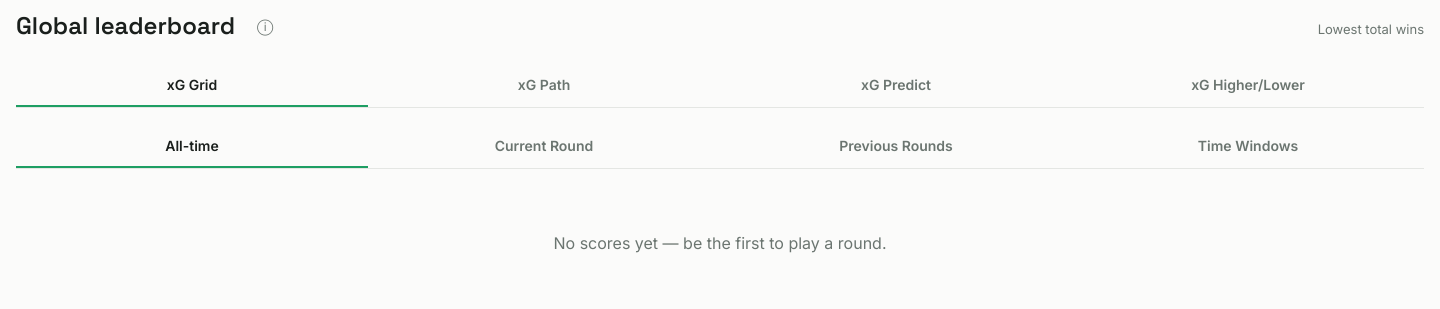
Scenario: WindowedLeaderboard › REQ405: selecting "Time Windows" fetches the window endpoint with the default (round) resolution
Expected: the text "No scores yet — be the first to play a round." is shown, top-left (554, 233), bottom-right (886, 253)
Click the tab "Time Windows" at [1248, 146], box top-left (1072, 124), bottom-right (1424, 168)
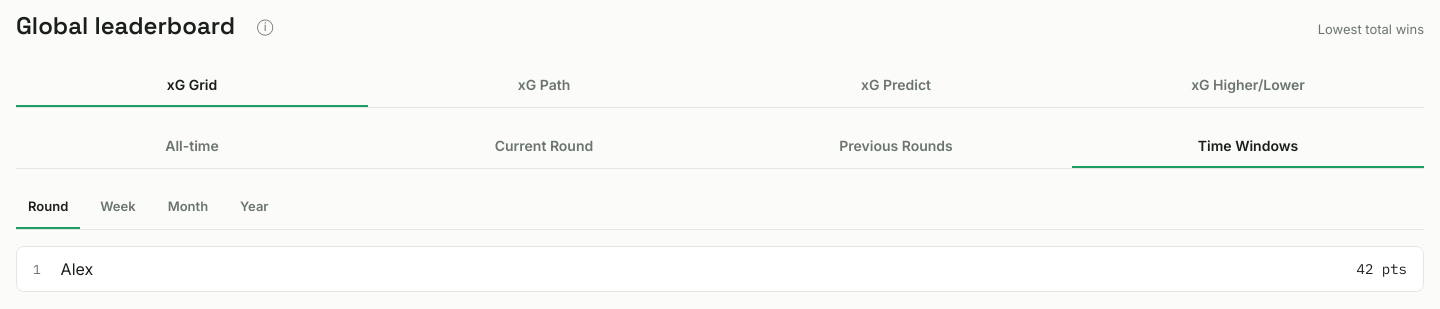
Expected: the text "Alex" is shown, top-left (61, 259), bottom-right (93, 279)
